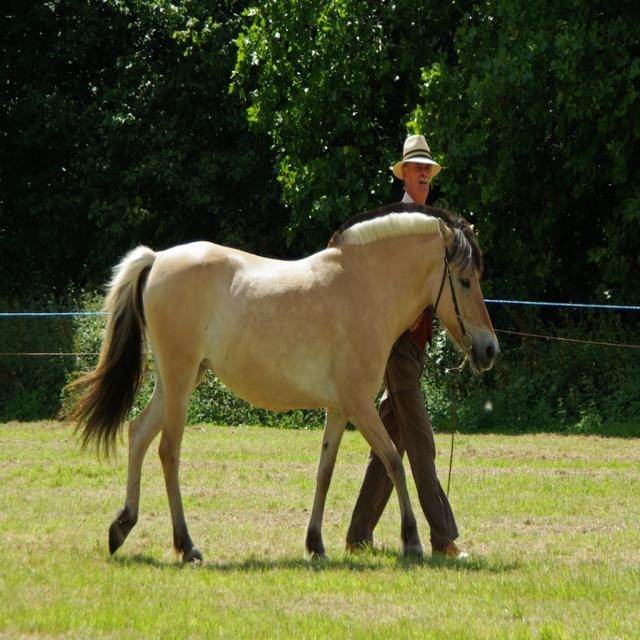Horse: (59, 200, 503, 562)
